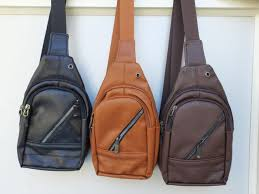bag: (15, 2, 87, 174)
